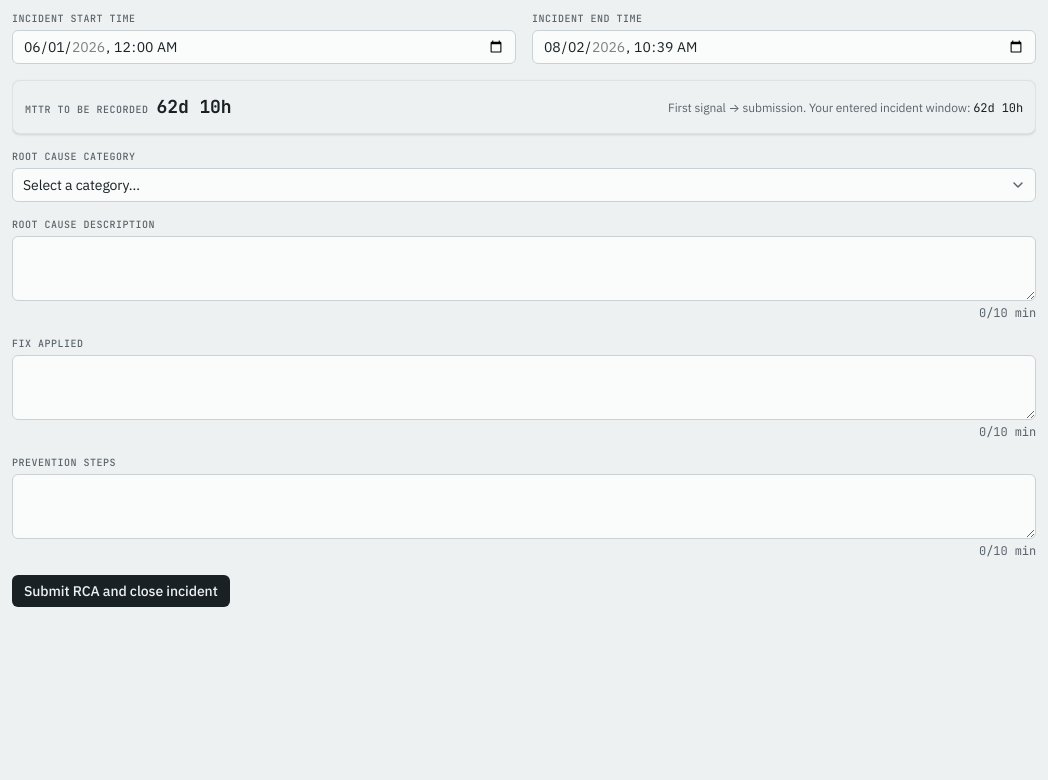
Test case: RcaForm › shows a live character counter that reflects progress toward the minimum
The width and height of the screenshot is (1048, 780).
Expected: the text "0/10 min" is shown 3 times, x1=979 y1=305 x2=1036 y2=321; x1=979 y1=424 x2=1036 y2=440; x1=979 y1=543 x2=1036 y2=559
Type "abcd" into the text box labelled "Fix applied" at [524, 388], box x1=12 y1=355 x2=1036 y2=420
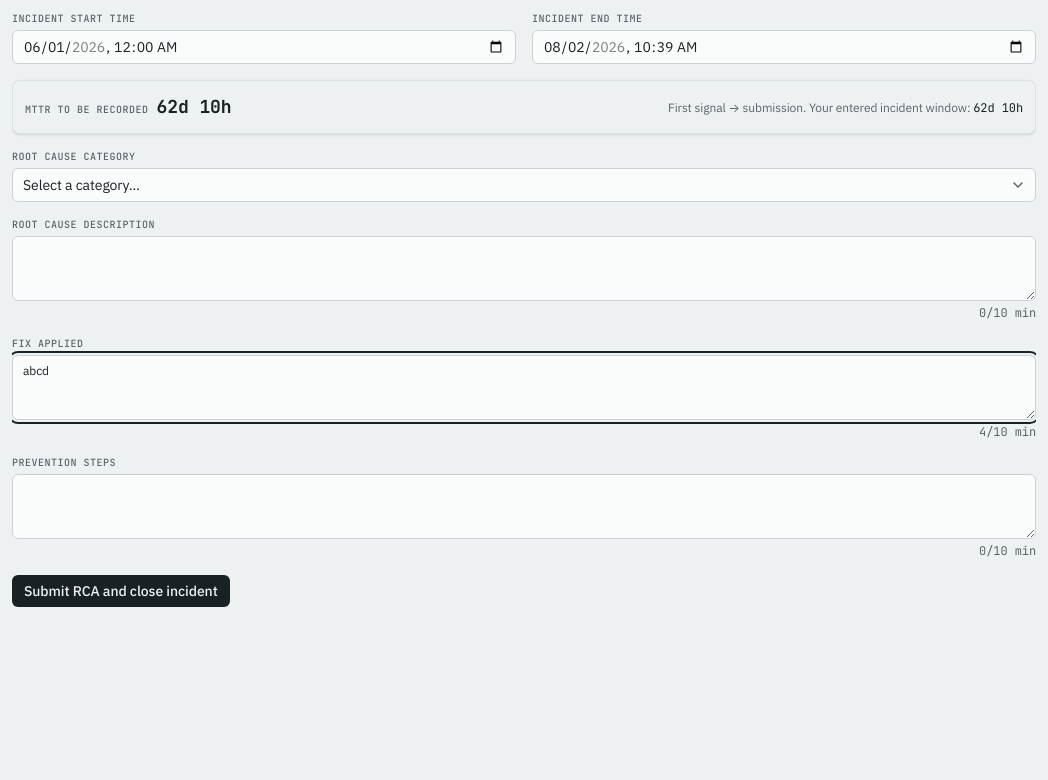
Now the text "4/10 min" is shown, box x1=979 y1=424 x2=1036 y2=440
Type "efghij" into the text box labelled "Fix applied" at [524, 388], box x1=12 y1=355 x2=1036 y2=420
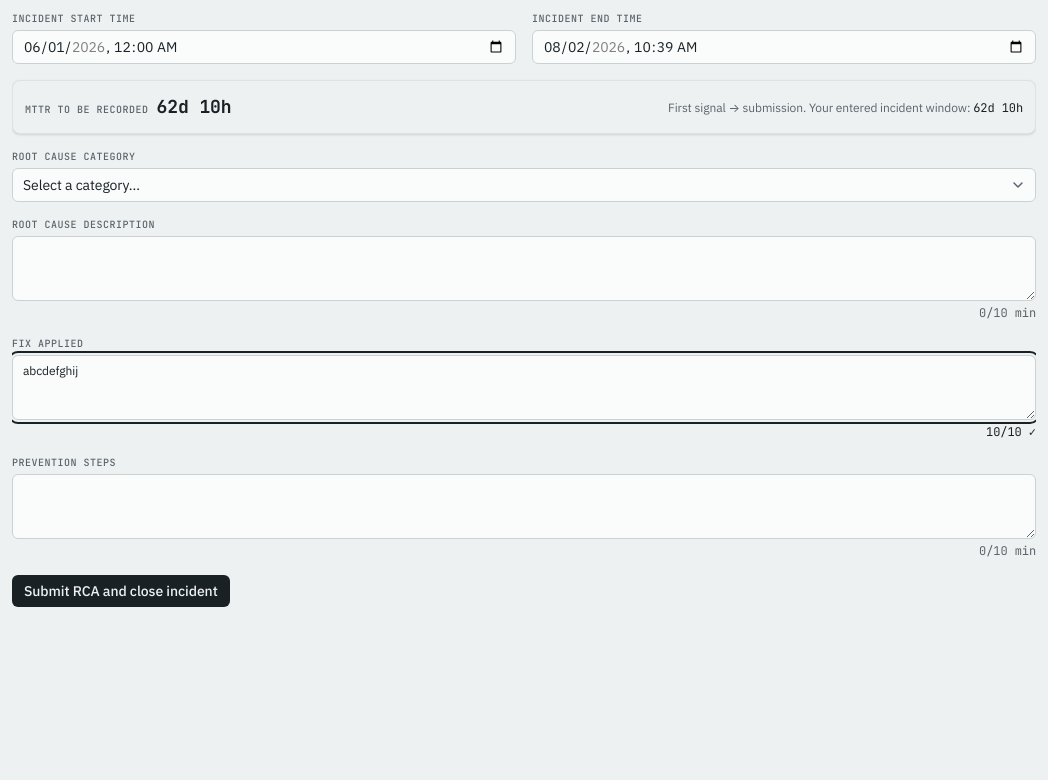
Now the text "10/10 ✓" is shown, box x1=986 y1=424 x2=1036 y2=440
